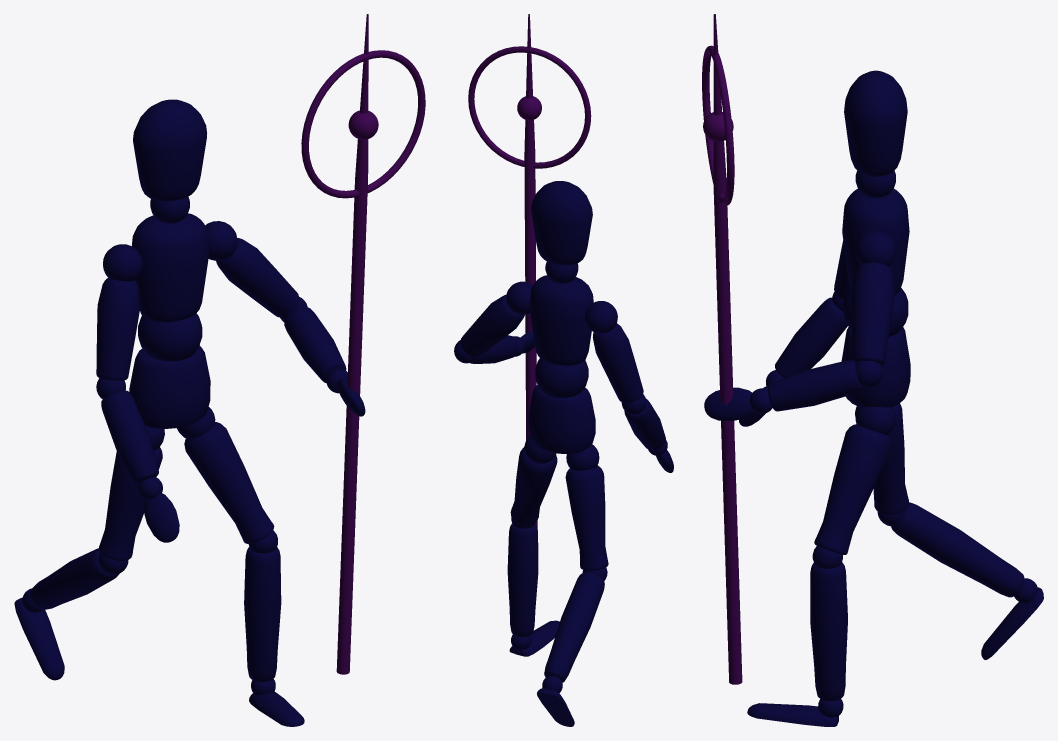
Rendered from warlock.fbx.
3 views of the same model, side by side, from view 1: azimuth 30°, elevation 25°; view 2: azimuth 150°, elevation 25°; view 3: azimuth 270°, elevation 25° (orthographic). The views are drawn at different scales.
Visible parts, largest first — view 1: Cylinder; view 2: Cylinder; view 3: Cylinder.
Part boxes in pixels (x1,y1,x2,y2): Cylinder: (14,14,425,726); Cylinder: (454,14,673,726); Cylinder: (702,14,1043,726).
Bounding box in the file's own units: 82.9 × 211 × 89.09.
